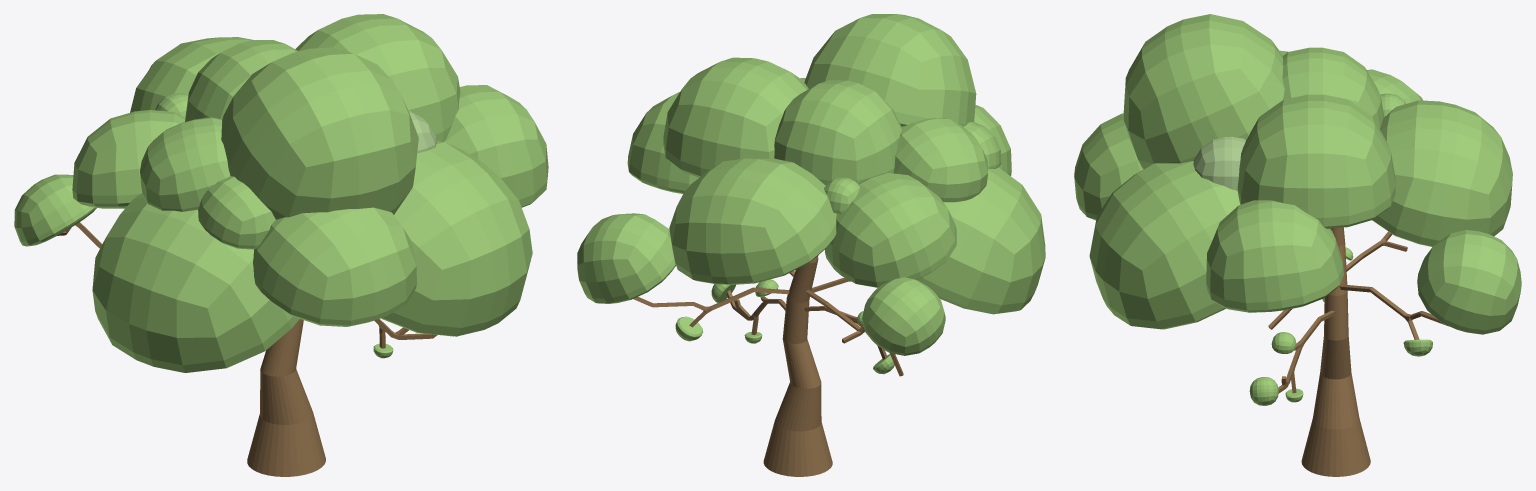
File: TREE_OF_LIFE.fbx
3 views of the same model, side by side, from view 1: azimuth 30°, elevation 25°; view 2: azimuth 150°, elevation 25°; view 3: azimuth 270°, elevation 25° (orthographic). The views are drawn at different scales.
Parts seen in each view (by area): view 1: Roundcube.009, Vert.007; view 2: Roundcube.009, Vert.007; view 3: Roundcube.009, Vert.007.
Part boxes in pixels (x1,y1,x2,y2): Roundcube.009: (14,14,548,372); Vert.007: (57,222,437,476); Roundcube.009: (577,14,1045,374); Vert.007: (633,255,903,476); Roundcube.009: (1074,14,1521,405); Vert.007: (1268,227,1448,476).
Bounding box in the file's own units: 5868 × 6002 × 5674.
